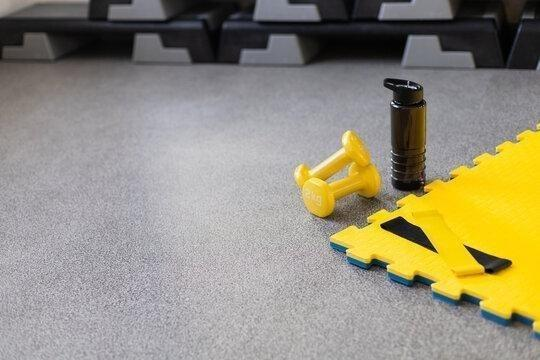gym bottle: (384, 76, 429, 192)
